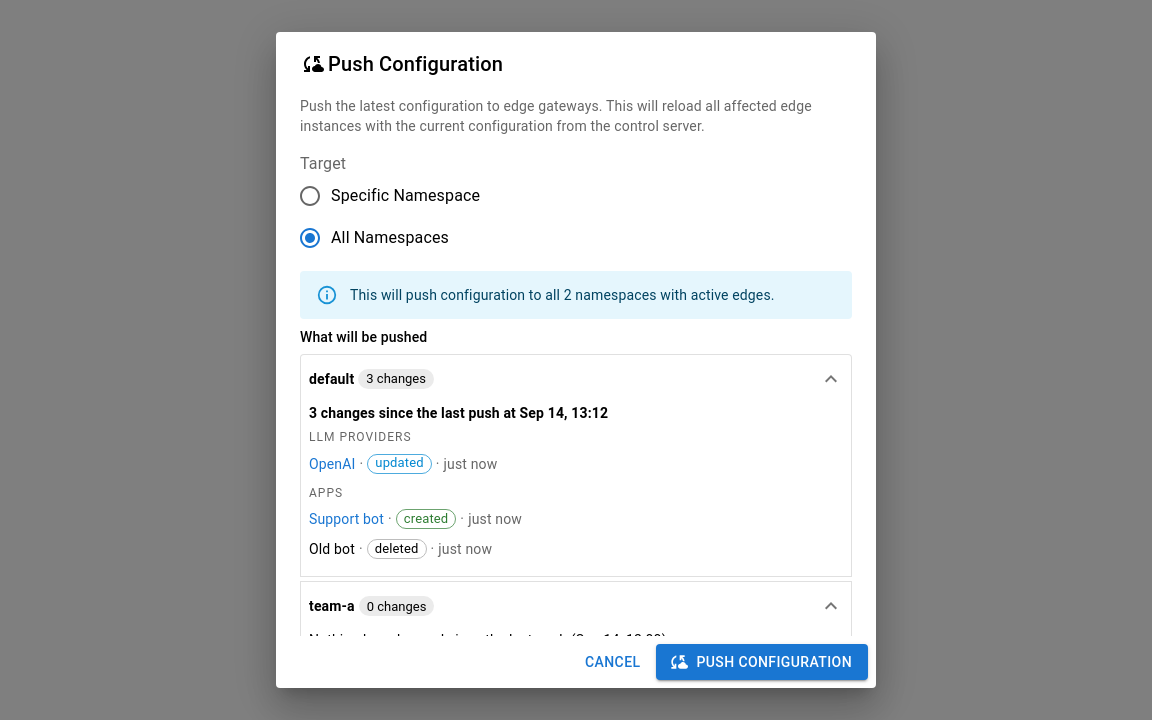
Test: PushConfigurationModal › warns about edges that are not connected, and ones left out
The width and height of the screenshot is (1152, 720).
Expected: the element with test id "pending-changes-default" is shown, x1=309 y1=405 x2=608 y2=559
Click the button "Push Configuration". click: (762, 662)
box: x1=656 y1=644 x2=868 y2=680
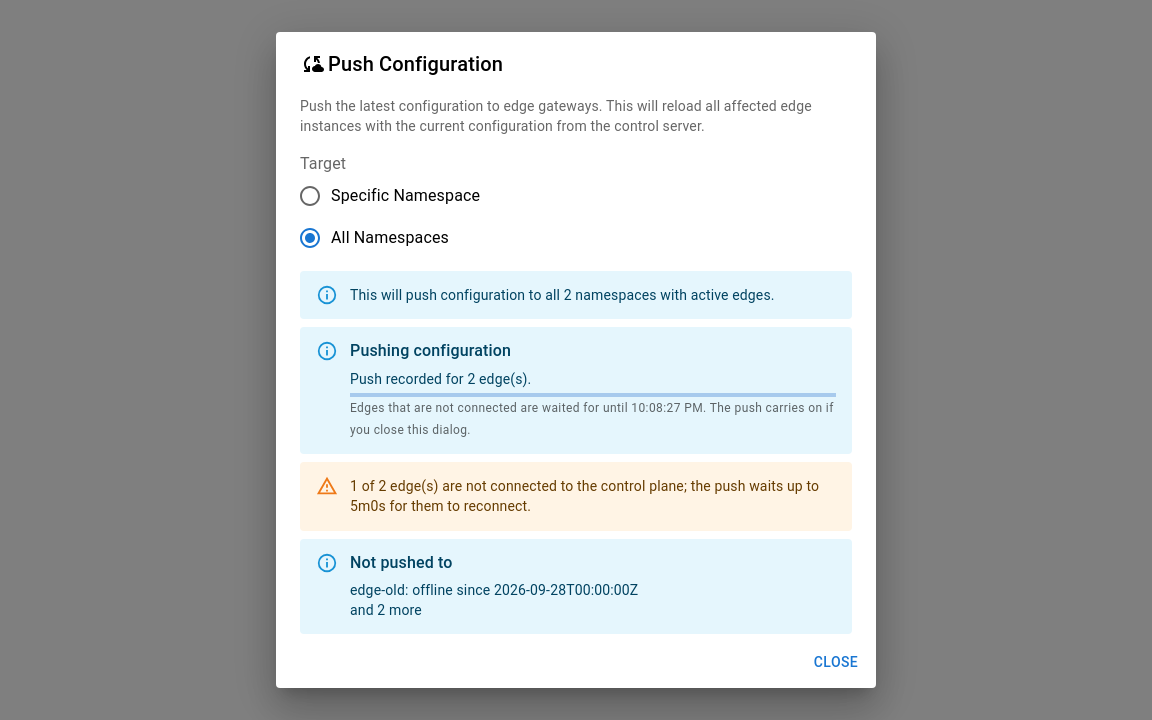
Now the message with test id "push-warnings" shows "not connected to the control plane", box x1=350 y1=478 x2=819 y2=514
Now the message with test id "push-skipped" shows "edge-old: offline since", box x1=300 y1=538 x2=852 y2=634
Now the message with test id "push-skipped" shows "and 2 more", box x1=300 y1=538 x2=852 y2=634
